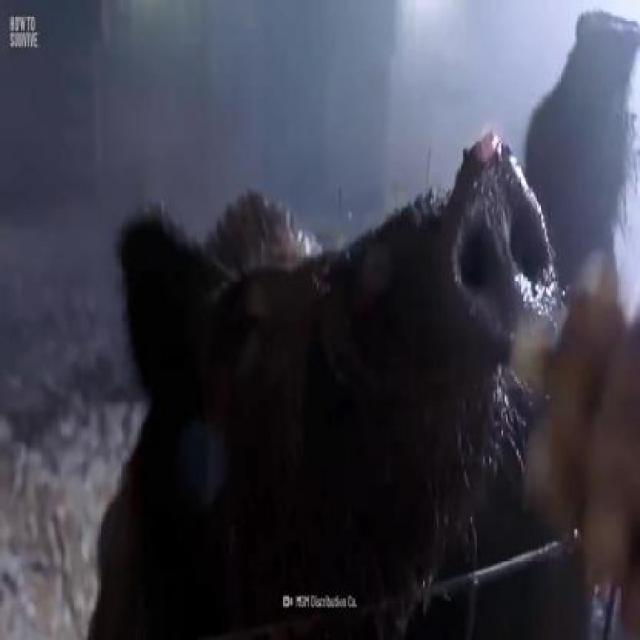pig: (109, 103, 594, 640)
